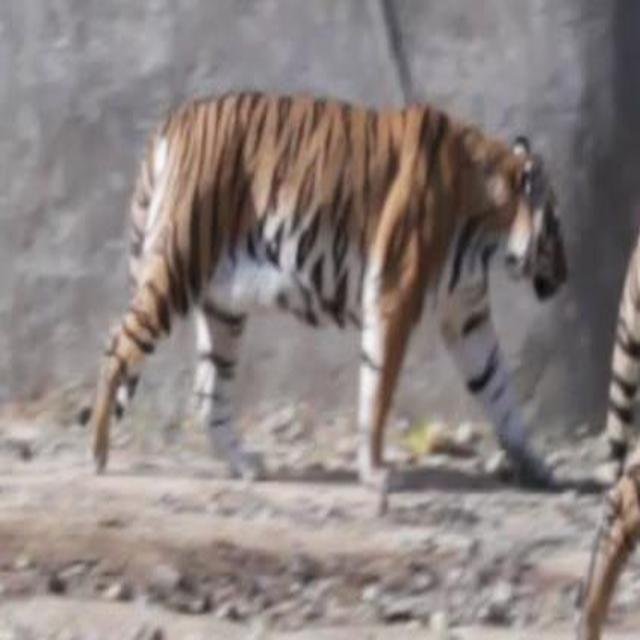tiger: (70, 51, 576, 508), (593, 169, 640, 546)
